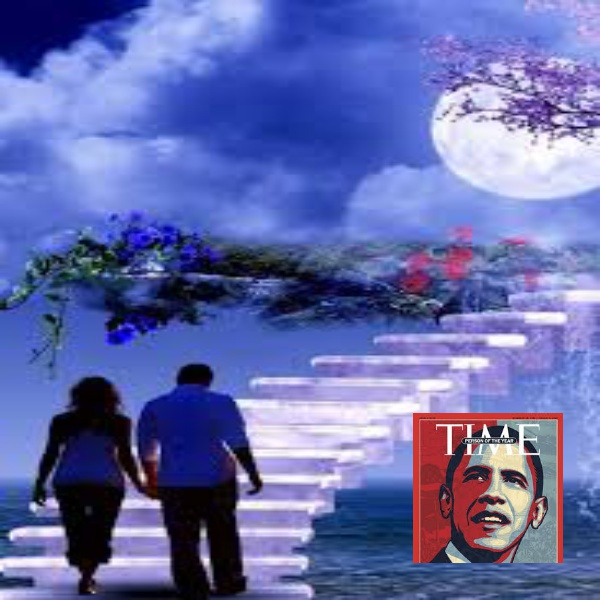time_cover: (408, 409, 562, 568)
